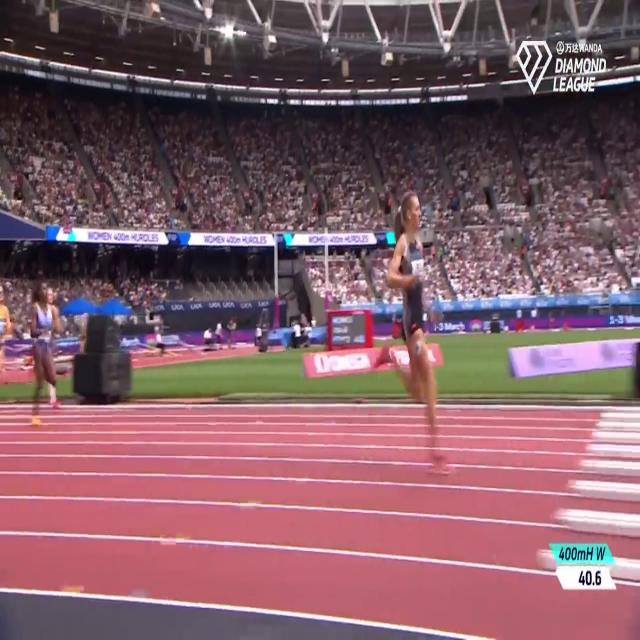athlete: (384, 178, 454, 502), (25, 268, 61, 431)
